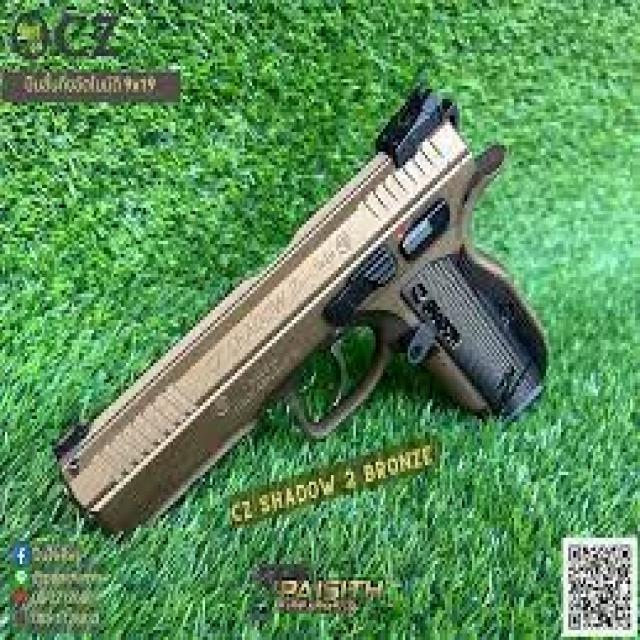semi automatic: (40, 61, 562, 548)
